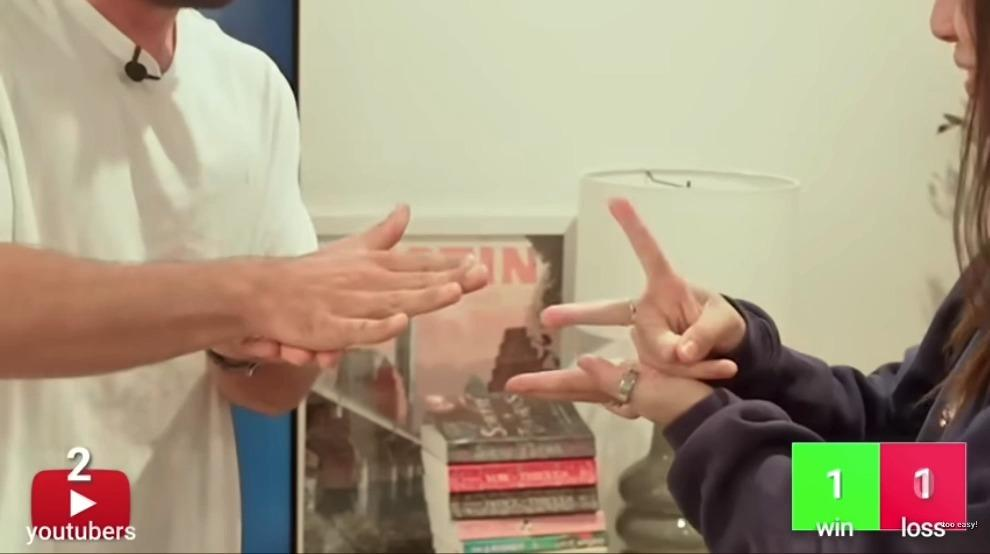Paper: (229, 198, 494, 345)
Scissors: (544, 196, 742, 383)
